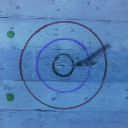Axe Tip: (76, 63, 86, 65)
